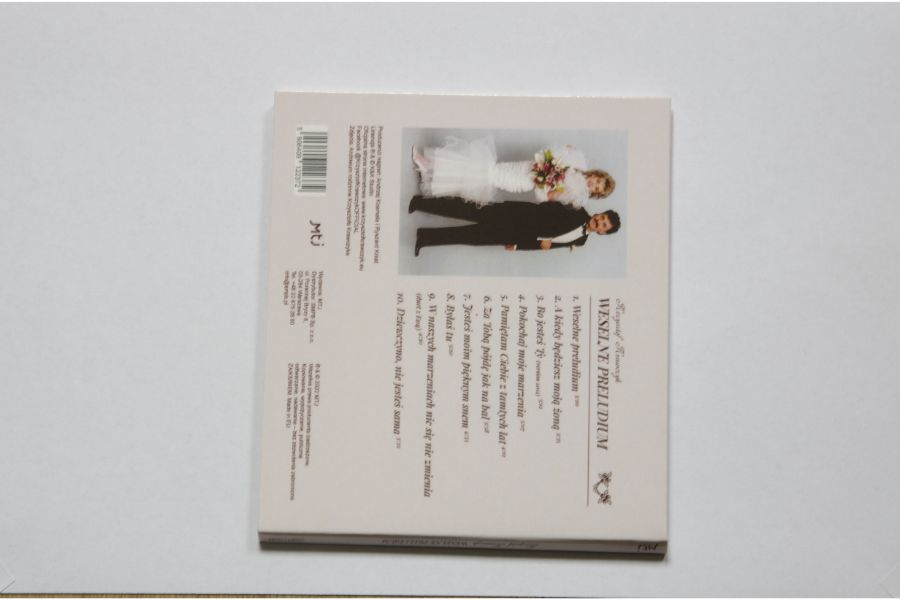album: (254, 88, 672, 557)
